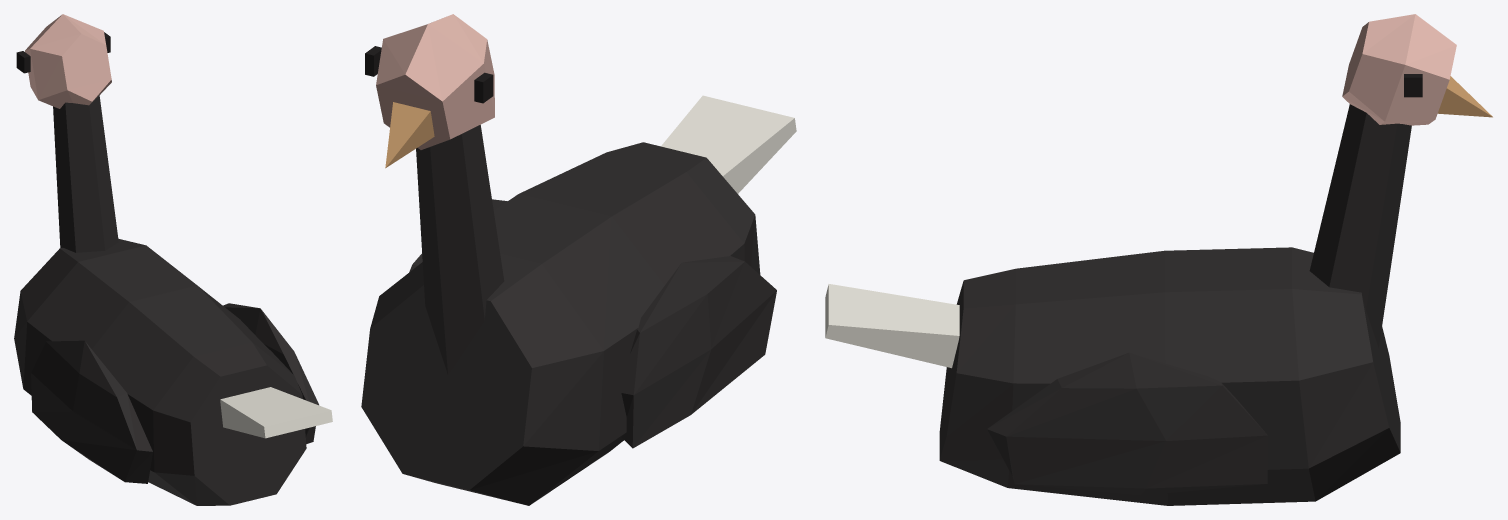
Rendered from animal_ostrich.obj.
The picture shows the model from 3 angles, left to right: view 1: azimuth 30°, elevation 25°; view 2: azimuth 150°, elevation 25°; view 3: azimuth 270°, elevation 25°; orthographic projection. The views are drawn at different scales.
Visible parts, largest first — view 1: animal_ostrich; view 2: animal_ostrich; view 3: animal_ostrich.
Part boxes in pixels (<box>): animal_ostrich: <box>14,14,332,505</box>; animal_ostrich: <box>361,14,796,505</box>; animal_ostrich: <box>825,14,1492,505</box>.
Size of the model in its own units: 0.4866 by 0.8906 by 1.14.
